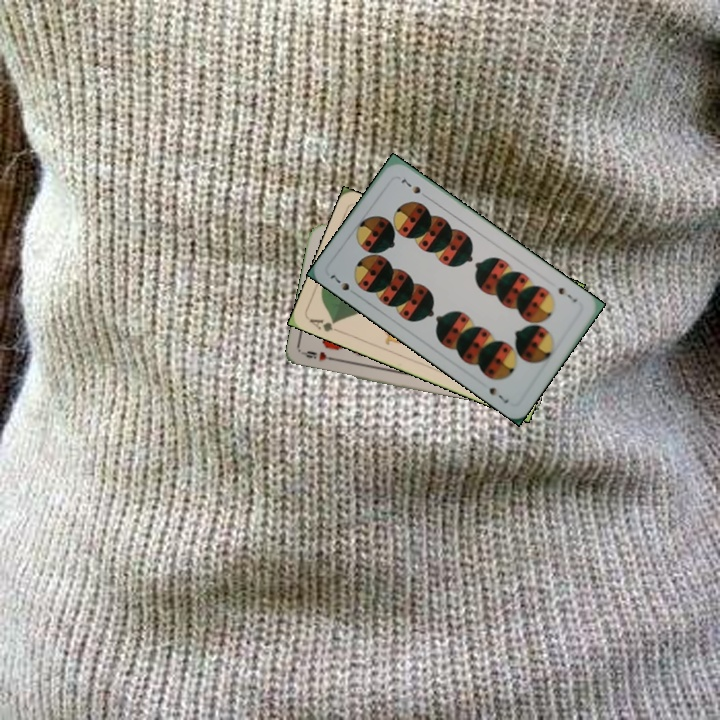GA: (305, 314, 344, 336)
H9: (300, 347, 340, 364)
S7: (326, 270, 352, 293), (554, 283, 580, 305)
